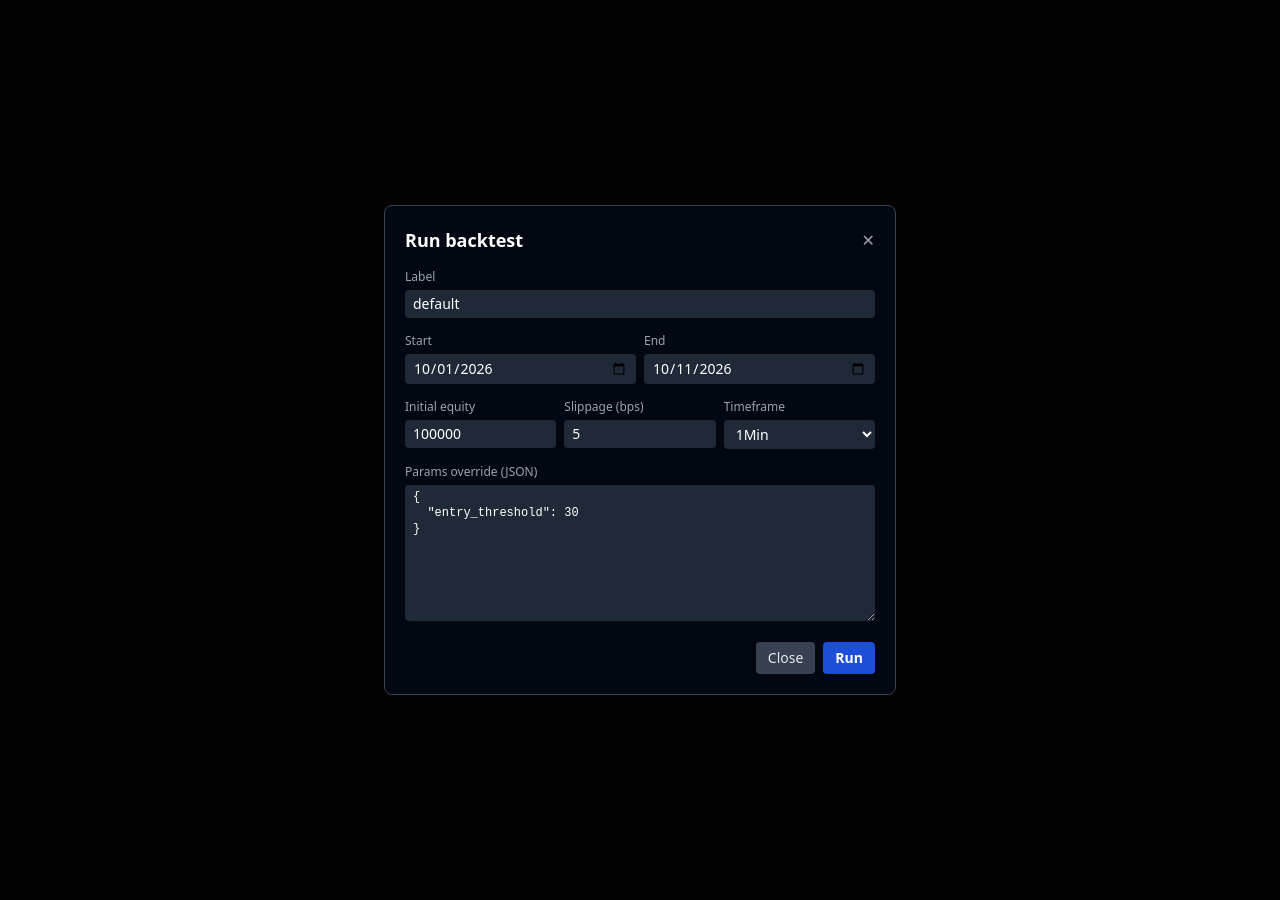
Test case: BacktestRunModal › ignores WS messages whose job_id doesn't match this modal's submission
Click the button "Run" at (849, 658), box 823,642 -> 875,674
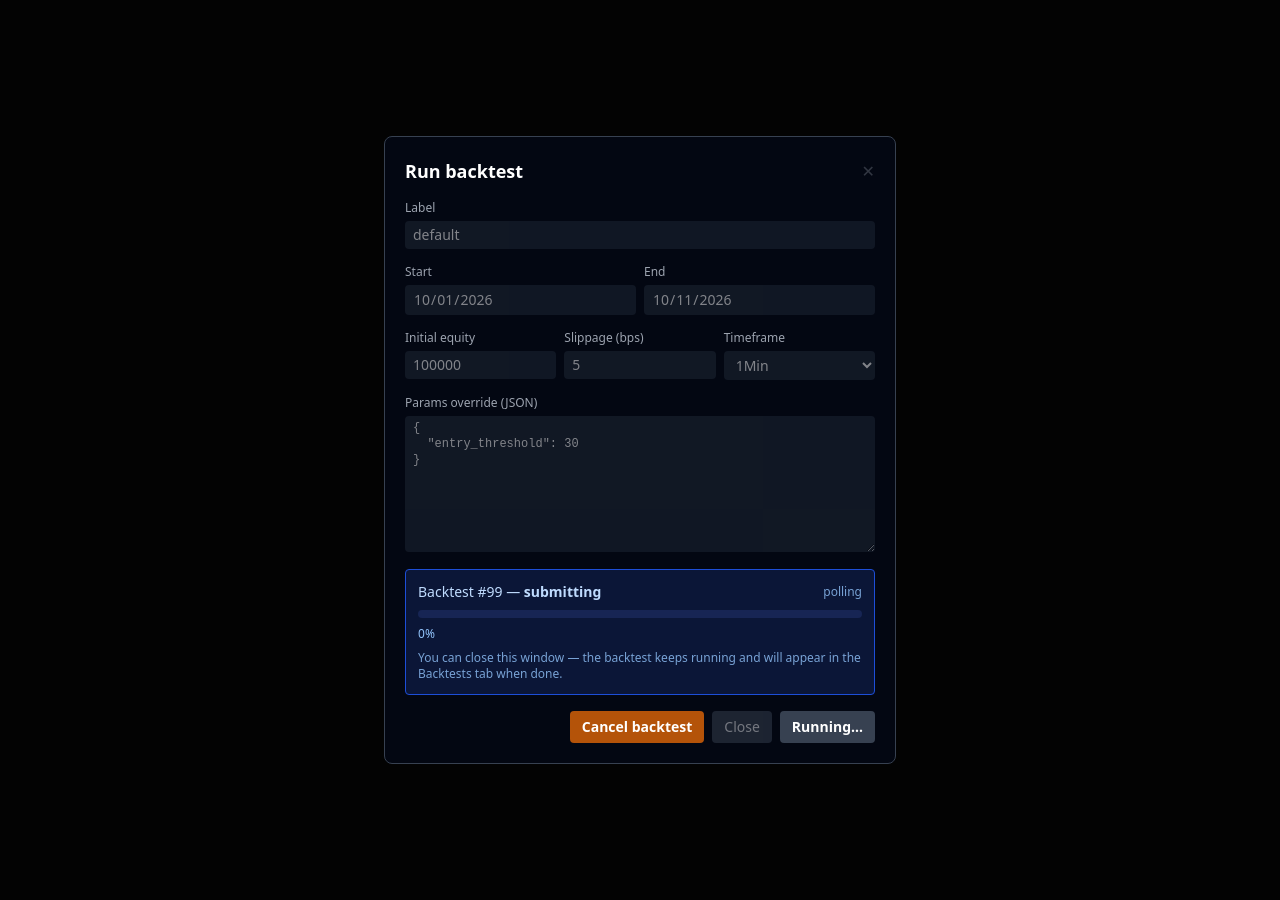
Result: the element with test id "bt-status" is shown at 405,569 -> 875,695
